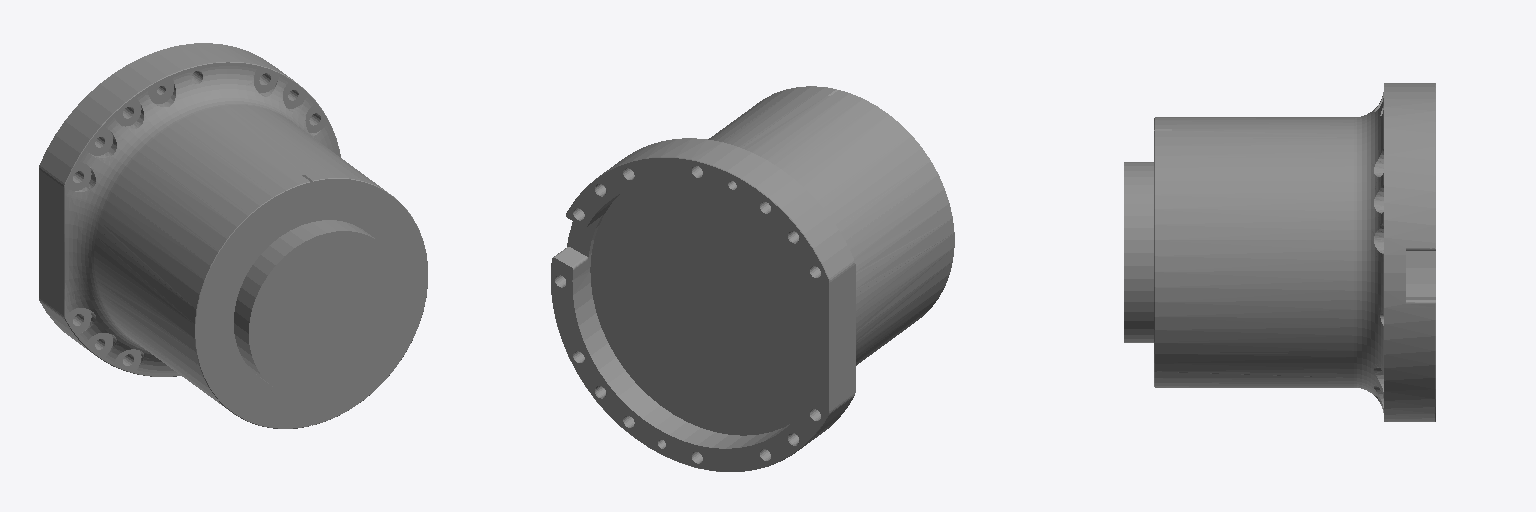
3 views of the same model, side by side, from view 1: azimuth 30°, elevation 25°; view 2: azimuth 150°, elevation 25°; view 3: azimuth 270°, elevation 25° (orthographic).
Parts seen in each view (by area): view 1: AR5-5_07L-W4S4A1-ZY_base; view 2: AR5-5_07L-W4S4A1-ZY_base; view 3: AR5-5_07L-W4S4A1-ZY_base.
Part boxes in pixels (x1,y1,x2,y2): AR5-5_07L-W4S4A1-ZY_base: (39,43,427,428); AR5-5_07L-W4S4A1-ZY_base: (551,86,954,471); AR5-5_07L-W4S4A1-ZY_base: (1124,83,1435,421).
Size of the model in its own units: 0.1075 by 0.113 by 0.1038.